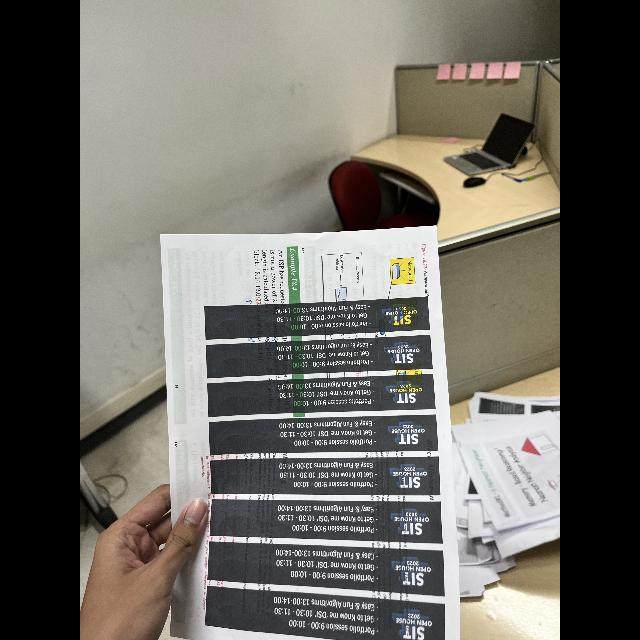reuseable_paper: (156, 220, 462, 640), (438, 386, 560, 608)
